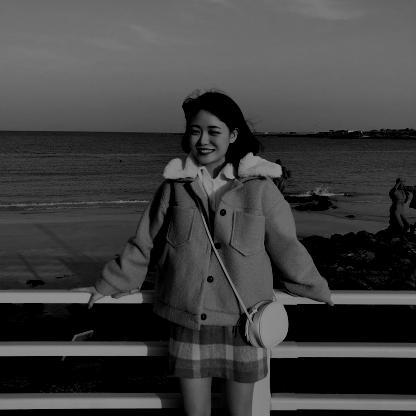dress: (105, 146, 334, 333)
jacket: (152, 287, 276, 384)
